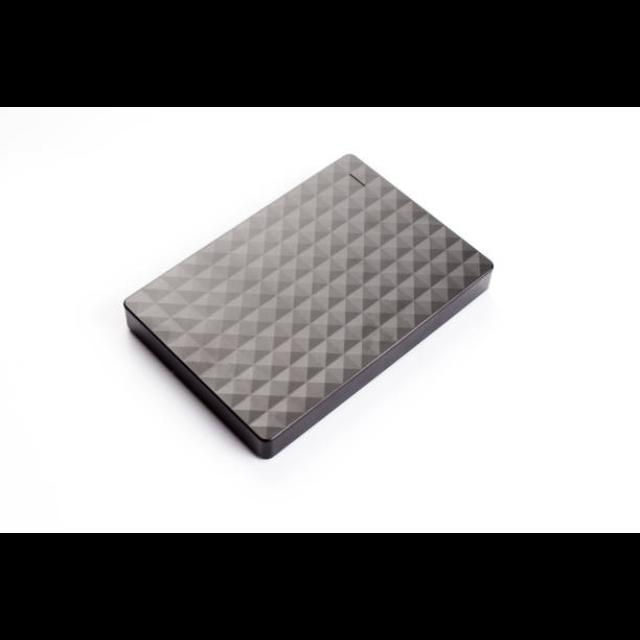HDD: (122, 154, 495, 460)
